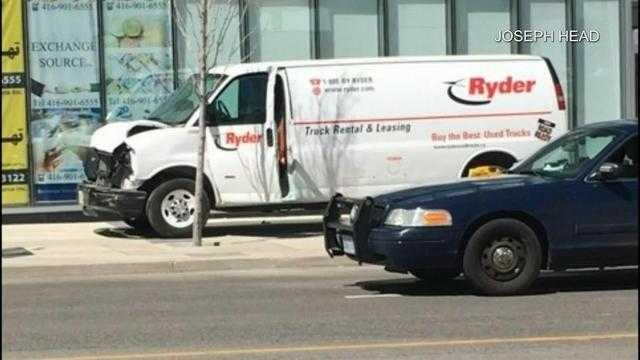car: (80, 49, 563, 229), (348, 122, 640, 292)
